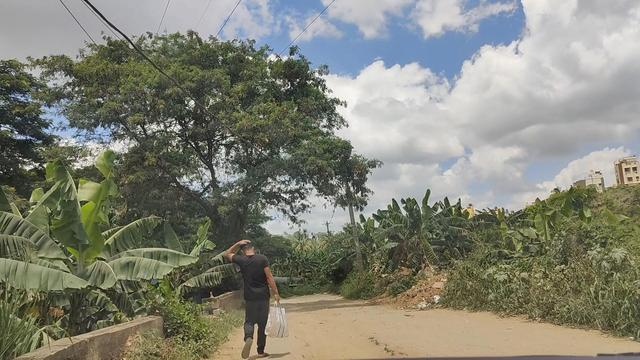UnsurfacedRoad: (304, 315, 429, 355)
